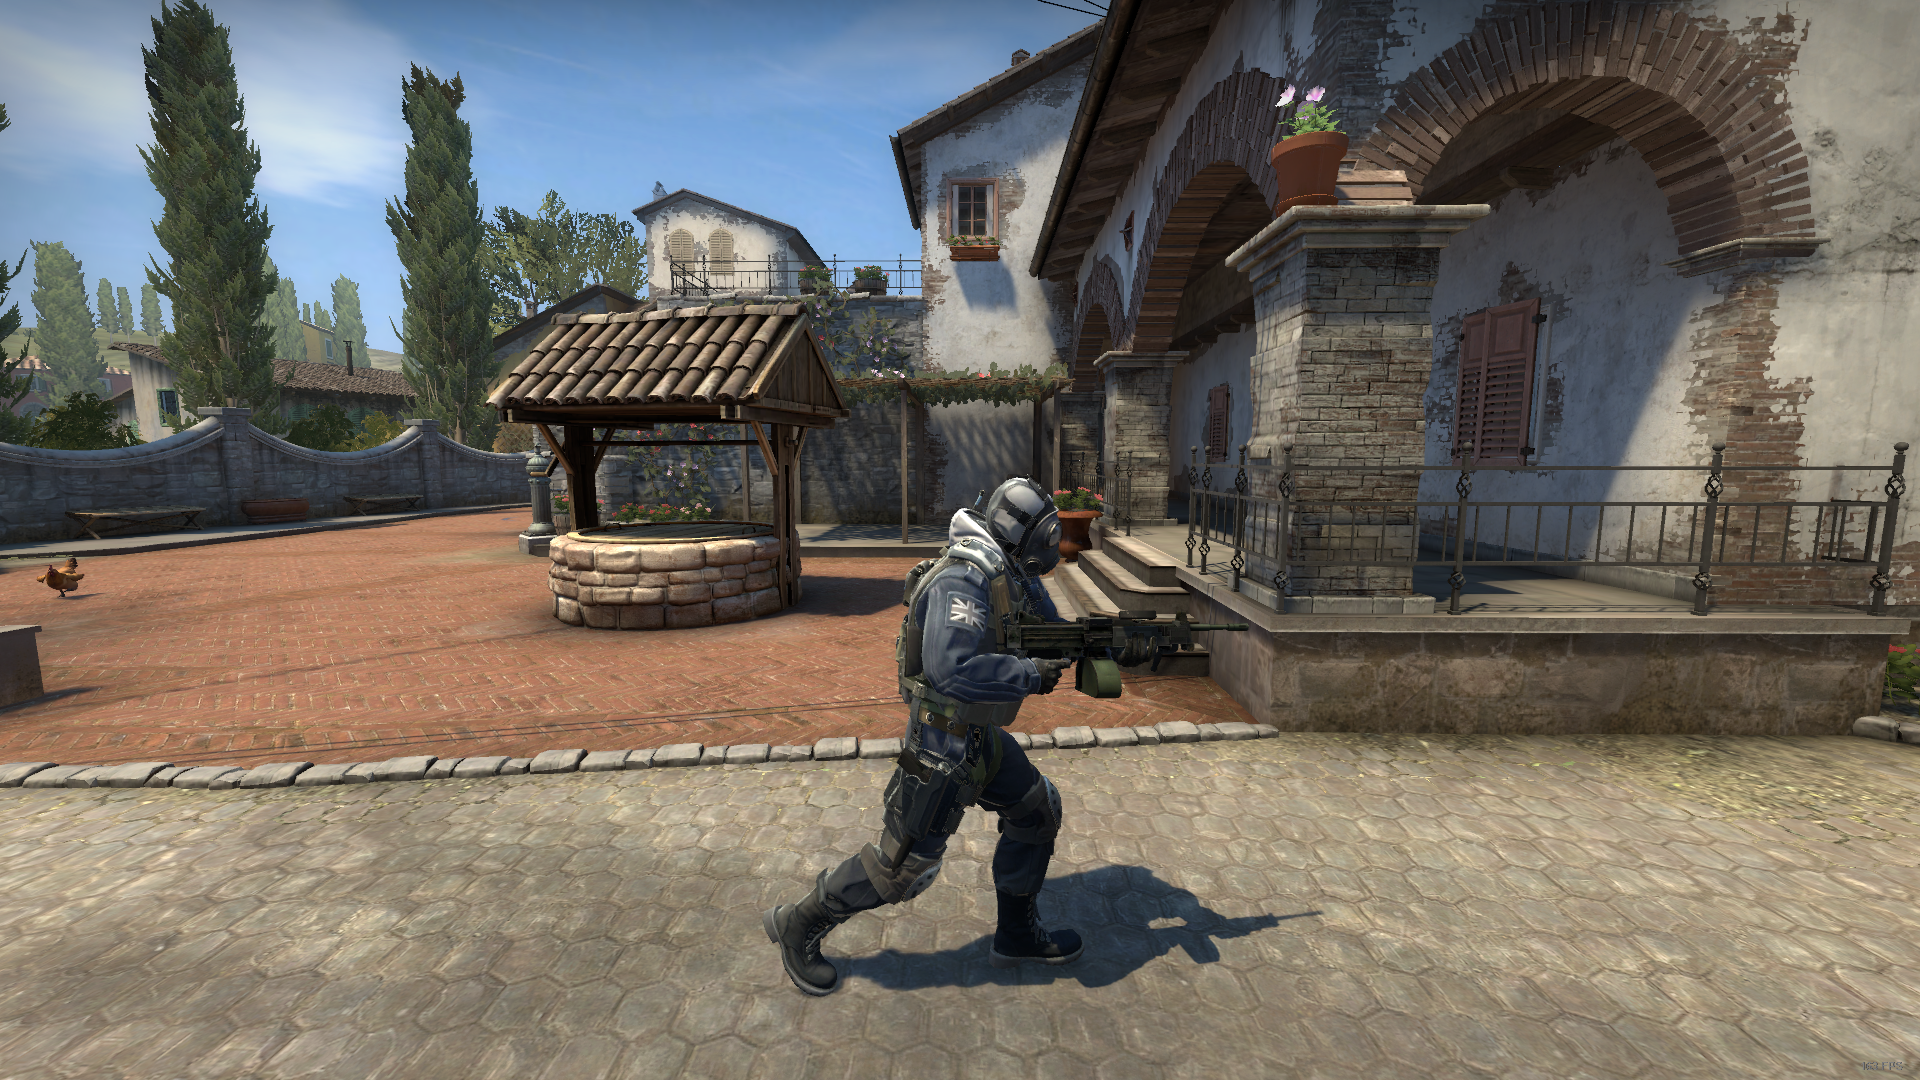ct: (762, 473, 1122, 1013)
